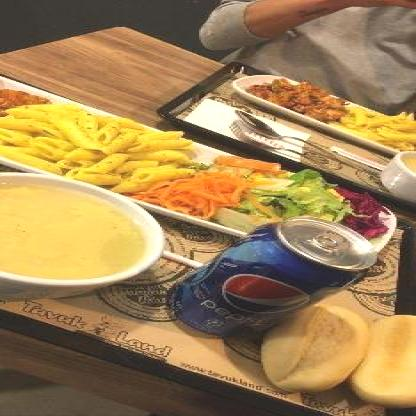alumunium_can: (167, 216, 379, 339)
